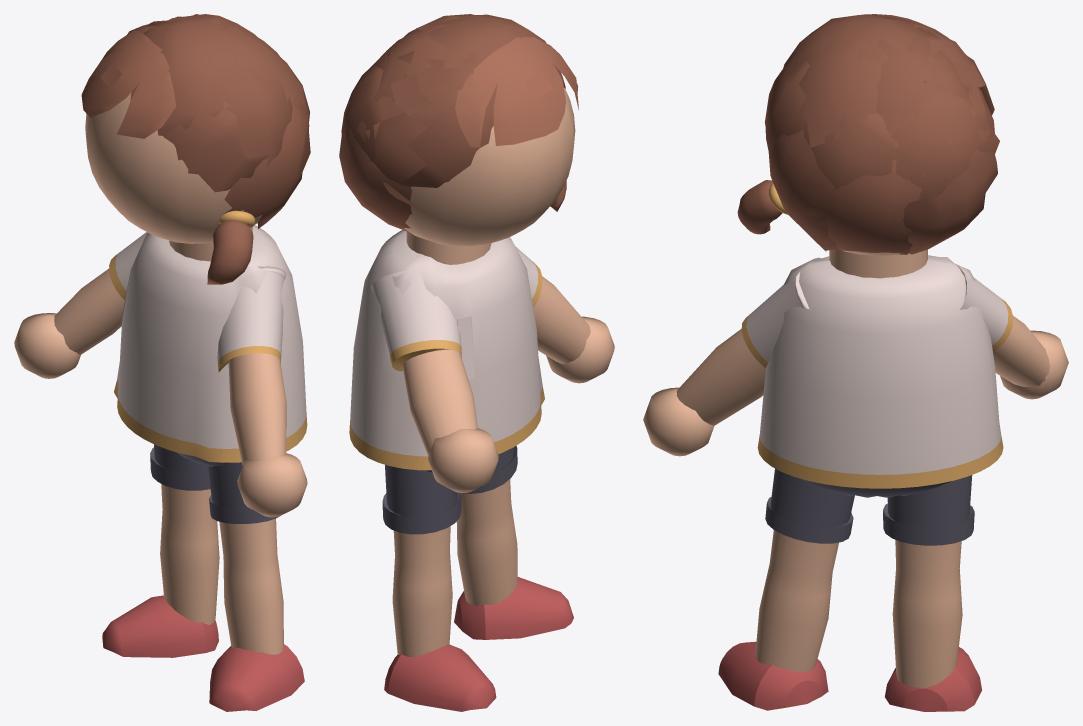
File: figurewponytail.fbx
3 views of the same model, side by side, from view 1: azimuth 30°, elevation 25°; view 2: azimuth 150°, elevation 25°; view 3: azimuth 270°, elevation 25° (orthographic). The views are drawn at different scales.
Parts seen in each view (by area): view 1: polySurface85; view 2: polySurface85; view 3: polySurface85.
Part boxes in pixels (x1,y1,x2,y2): polySurface85: [14, 14, 310, 711]; polySurface85: [339, 14, 614, 711]; polySurface85: [643, 14, 1068, 711].
Size of the model in its own units: 1.87 by 5.55 by 3.23.
